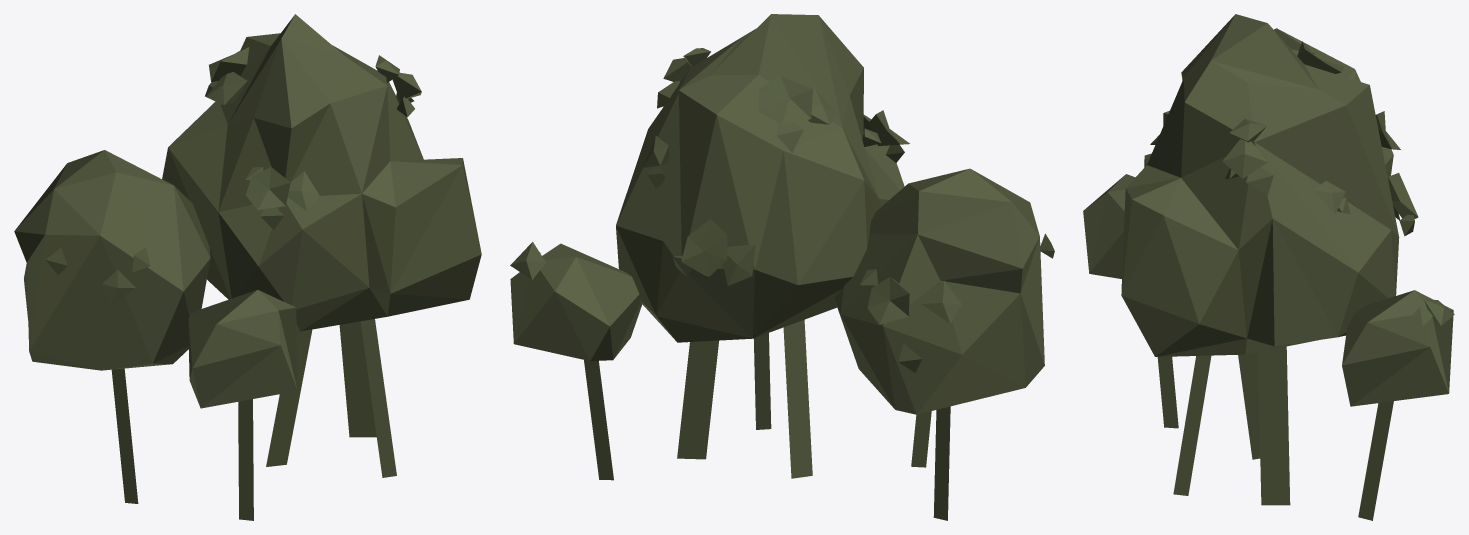
File: kingdom_SM_Env_Bush_Flowers_03.gltf
3 renders of one model, left to right at view 1: azimuth 30°, elevation 25°; view 2: azimuth 150°, elevation 25°; view 3: azimuth 270°, elevation 25°, orthographic. The views are drawn at different scales.
Visible parts, largest first — view 1: SM_Env_Bush_Flowers_03; view 2: SM_Env_Bush_Flowers_03; view 3: SM_Env_Bush_Flowers_03.
Boxes of the visible parts, x1,y1,x2,y2 form: SM_Env_Bush_Flowers_03: (14,14,481,520); SM_Env_Bush_Flowers_03: (510,14,1054,520); SM_Env_Bush_Flowers_03: (1083,14,1454,520).
Size of the model in its own units: 1.91 by 1.87 by 1.4.
Materials: 1 (1 with a texture image).
